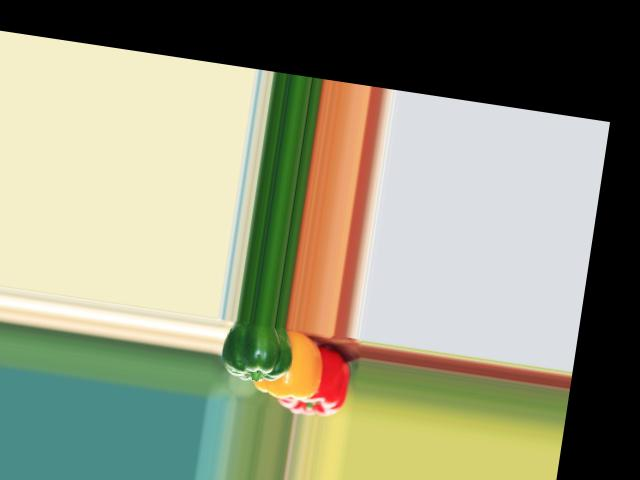bell_pepper: (276, 331, 354, 419)
